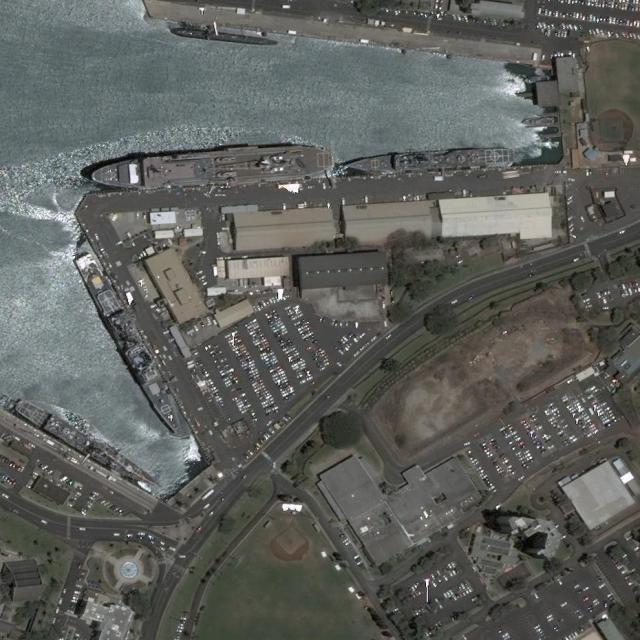Cruiser: (72, 250, 184, 438)
Frigate: (12, 394, 165, 494), (346, 147, 511, 177)
Other Warship: (89, 139, 337, 195)
Submarine: (170, 26, 279, 47)
